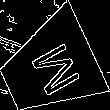M_SW: (19, 36, 79, 100)
